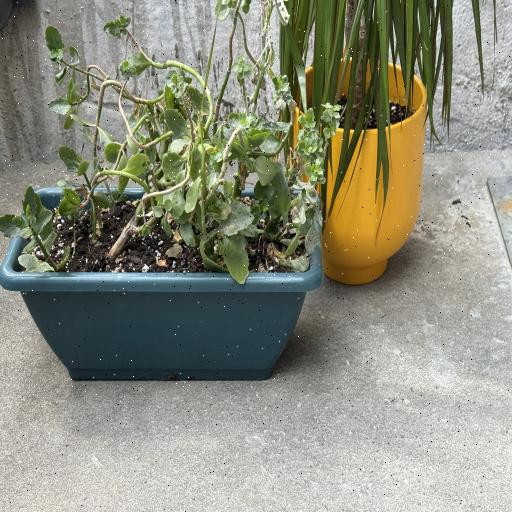Plant Pot: (2, 186, 324, 384), (288, 62, 427, 287)
